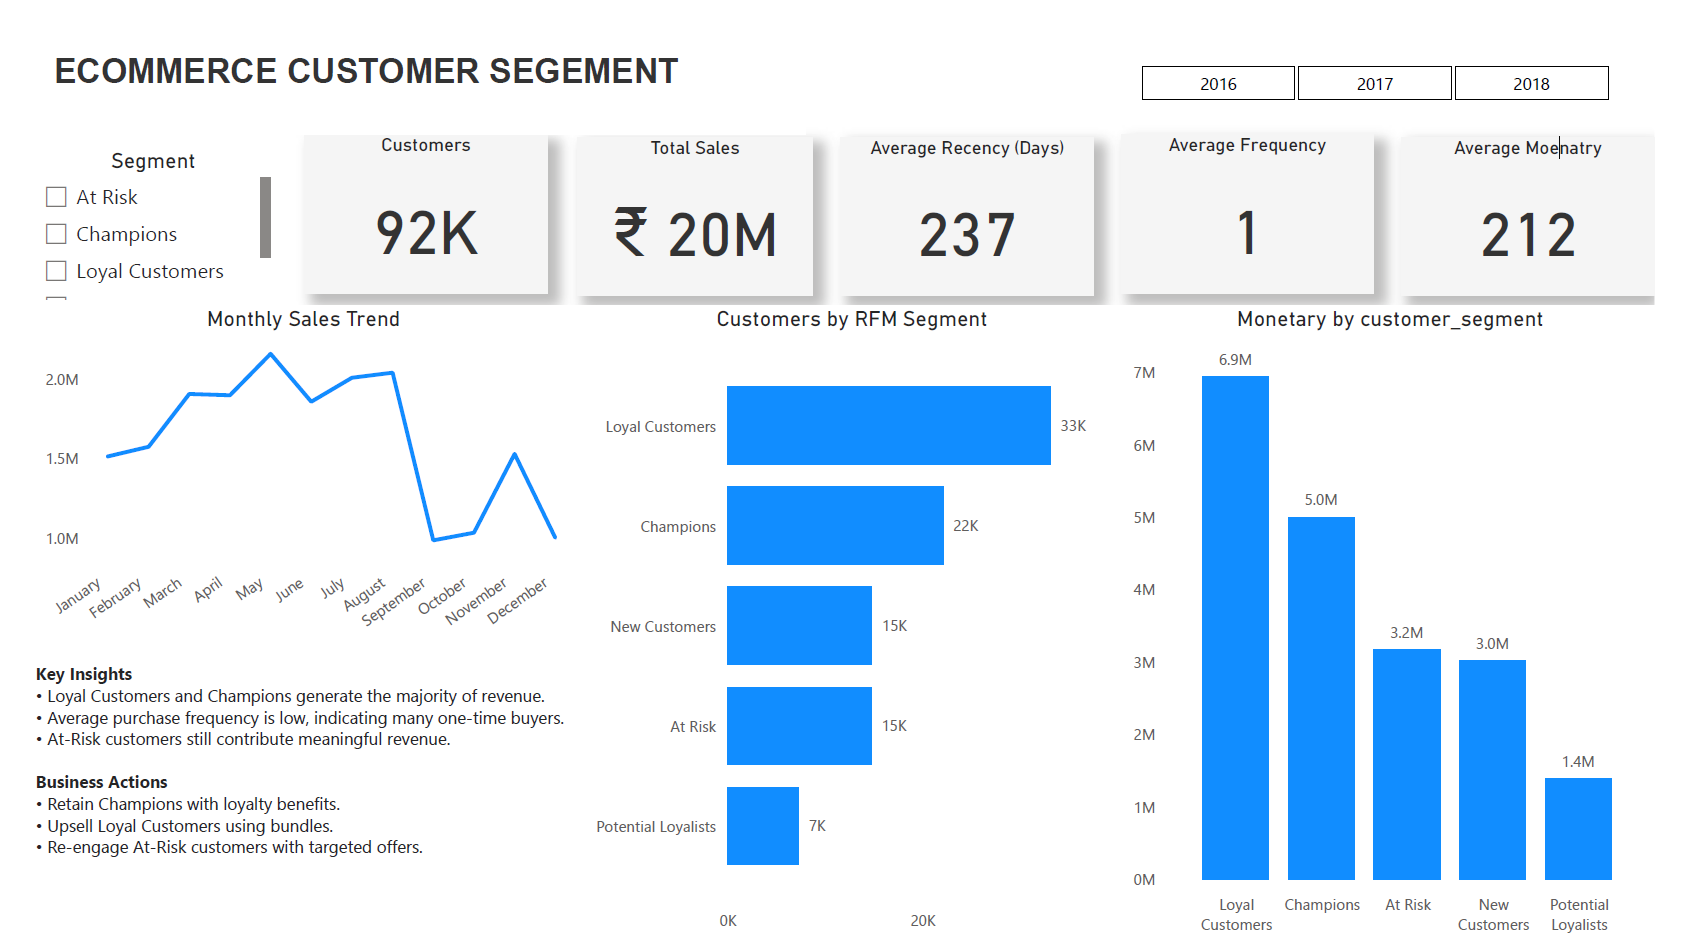

Layout of this report page (visuals, bound fields, positions):
{"tool":"powerbi","page":{"name":"Page 2","canvas":[1280,720],"ordinal":0},"visuals":[{"type":"card","title":"Customers","fields":{"Values":["Count(customer_rfm.customer_unique_id)"]},"box":[216.8,82.3,190.7,124.9],"z":0},{"type":"card","title":"Total Sales","fields":{"Values":["Sum(customer_rfm.total_revenue)"]},"box":[432.2,83.7,185.2,124.9],"z":1000},{"type":"card","title":"Average Recency (Days)","fields":{"Values":["Avg(customer_rfm.recency)"]},"box":[639.5,83.7,199,124.9],"z":2000},{"type":"card","title":"Average Frequency","fields":{"Values":["Avg(customer_rfm.frequency)"]},"box":[860.4,82.3,199,124.9],"z":3000},{"type":"card","title":"Average Moenatry","fields":{"Values":["Avg(customer_rfm.monetary)"]},"box":[1081.3,83.7,199,124.9],"z":4000},{"type":"slicer","title":"Segment","fields":{"Values":["customer_rfm.customer_segment"]},"box":[0,91.9,194.9,124.9],"z":5000},{"type":"slicer","fields":{"Values":["monthly_sales.order_month.Variation.Date Hierarchy.Year"]},"box":[845.3,16.5,428.1,49.4],"z":6000},{"type":"clusteredBarChart","title":"Customers by RFM Segment","fields":{"Category":["customer_rfm.customer_segment"],"Y":["Count(customer_rfm.customer_unique_id)"]},"box":[432.2,216.8,432.2,503.6],"z":7000},{"type":"clusteredColumnChart","title":"Monetary by customer_segment","fields":{"Category":["customer_rfm.customer_segment"],"Y":["Sum(customer_rfm.monetary)"]},"box":[864.5,216.8,415.8,503.6],"z":8000},{"type":"lineChart","title":"Monthly Sales Trend","fields":{"Category":["monthly_sales.order_month.Variation.Date Hierarchy.Month","monthly_sales.order_month.Variation.Date Hierarchy.Day"],"Y":["Sum(monthly_sales.payment_value)"]},"box":[0,216.8,432.2,275.8],"z":9000},{"type":"textbox","box":[0,493,432,227],"z":10000},{"type":"textbox","box":[13.7,12.3,596.9,70],"z":11000}]}

Visuals, with their boxes in screenshot pixels (x1, y1, x2, y2), scaled from the page's 1280x720 canvas onto the 1683x945 screenshot:
"Customers" card: x1=285 y1=108 x2=536 y2=272
"Total Sales" card: x1=568 y1=110 x2=812 y2=274
"Average Recency (Days)" card: x1=841 y1=110 x2=1102 y2=274
"Average Frequency" card: x1=1131 y1=108 x2=1393 y2=272
"Average Moenatry" card: x1=1422 y1=110 x2=1682 y2=274
"Segment" slicer: x1=0 y1=121 x2=256 y2=285
slicer - monthly_sales.order_month.Variation.Date Hierarchy.Year: x1=1111 y1=22 x2=1674 y2=86
"Customers by RFM Segment" clusteredBarChart: x1=568 y1=285 x2=1137 y2=944
"Monetary by customer_segment" clusteredColumnChart: x1=1137 y1=285 x2=1682 y2=944
"Monthly Sales Trend" lineChart: x1=0 y1=285 x2=568 y2=647
textbox: x1=0 y1=647 x2=568 y2=944
textbox: x1=18 y1=16 x2=803 y2=108
